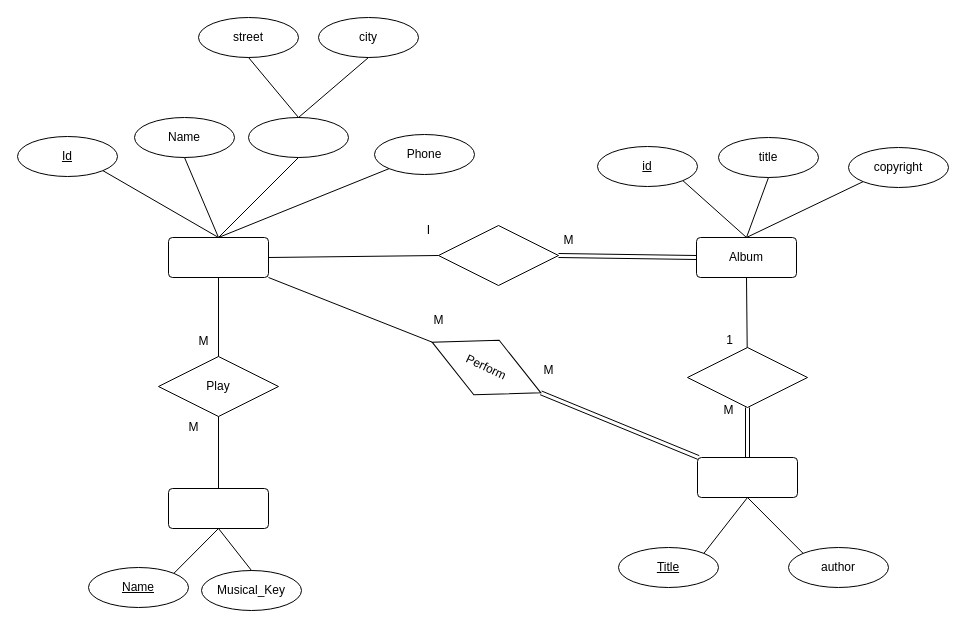
The diagram is 966 pixels wide and 628 high, and some of its shapes have lost their labels. Here are the shapes that lost their labels. From the top down, the box of each, then its label:
(248, 116, 348, 158): address
(168, 236, 268, 278): Musician
(438, 224, 558, 286): Produce
(686, 346, 808, 408): Appear_on
(696, 456, 798, 498): Song
(168, 488, 268, 528): instrument
